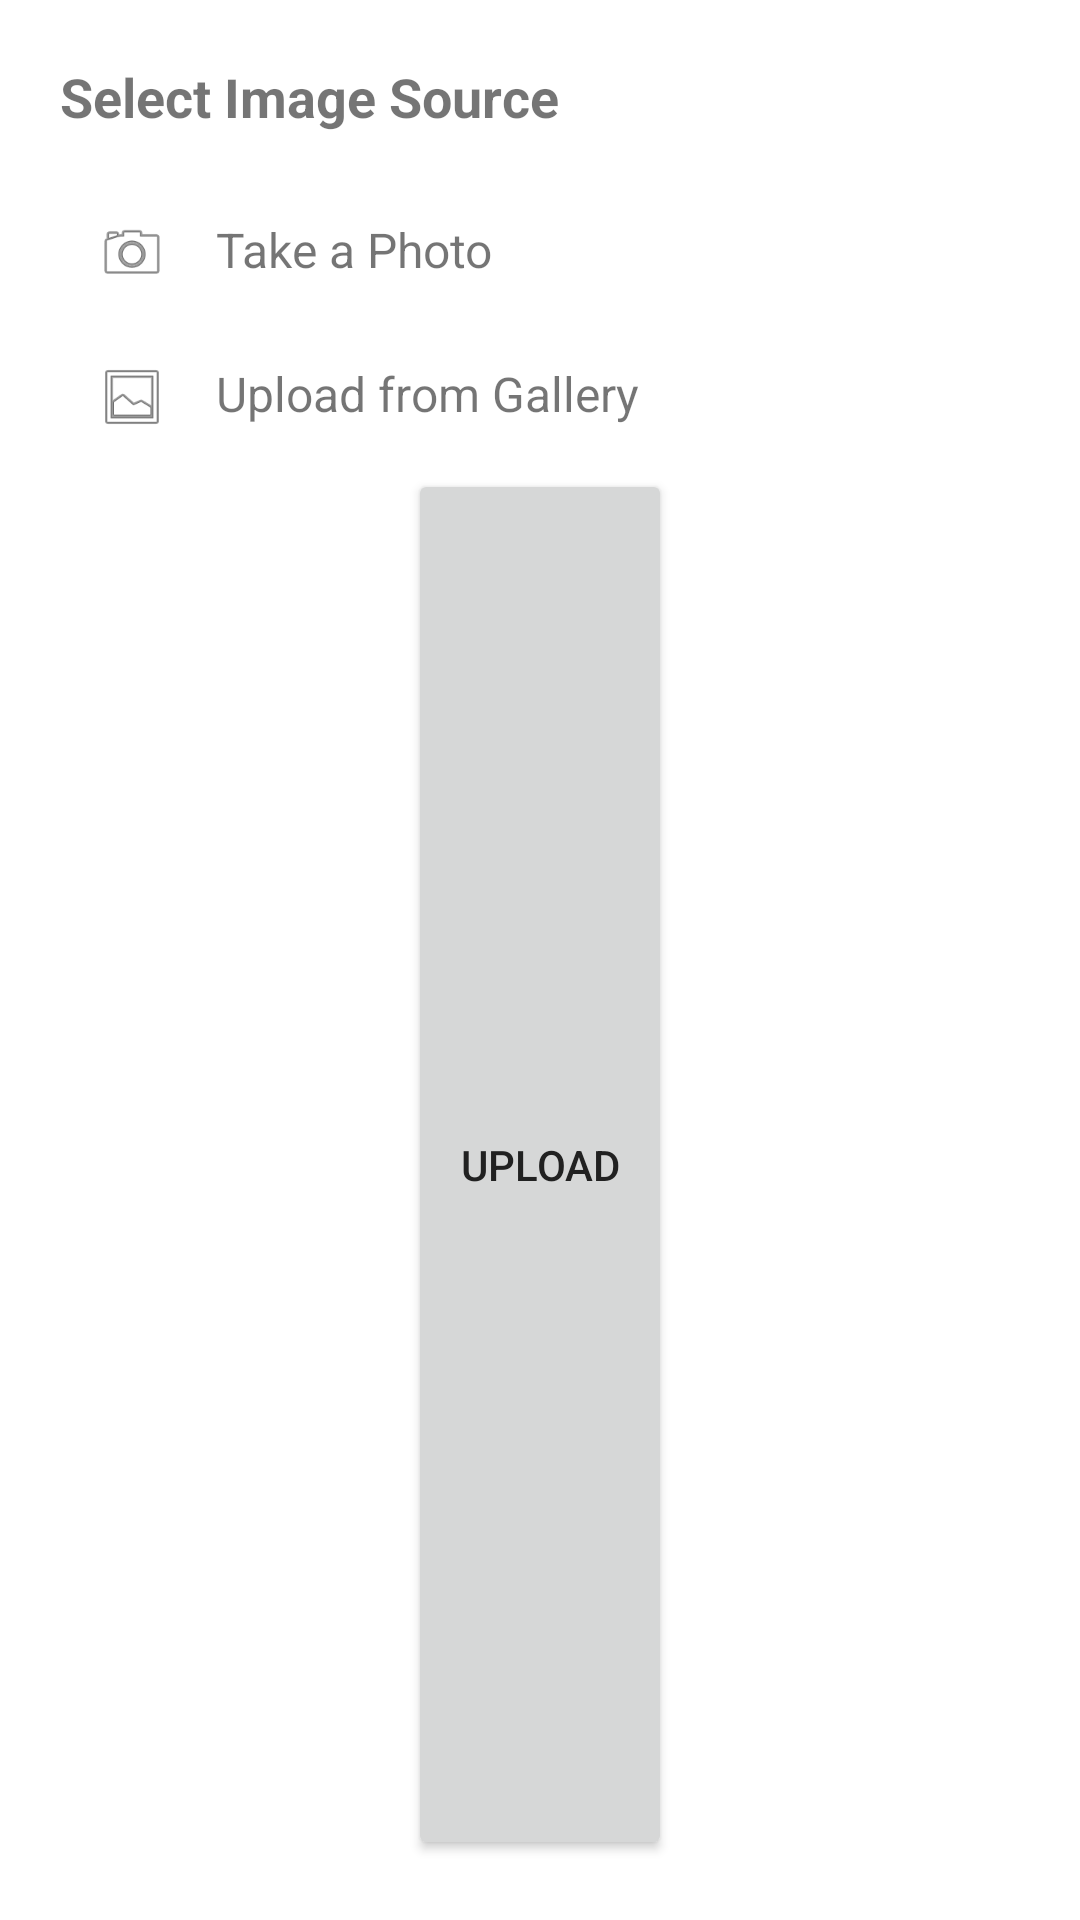

Screen size 1080 × 1920. Icon name, then its box in pixels as region(x1, y1, x2, y2):
camera: region(104, 230, 160, 274)
